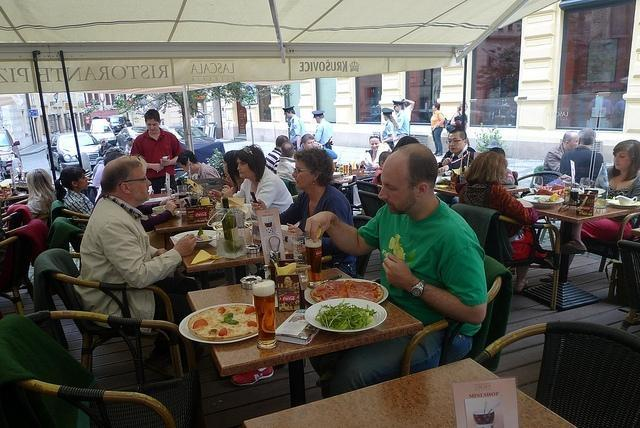car: (48, 132, 100, 172), (0, 127, 22, 175), (116, 127, 147, 146), (90, 124, 116, 145)
